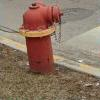a fire hydrant: (23, 3, 57, 73)
